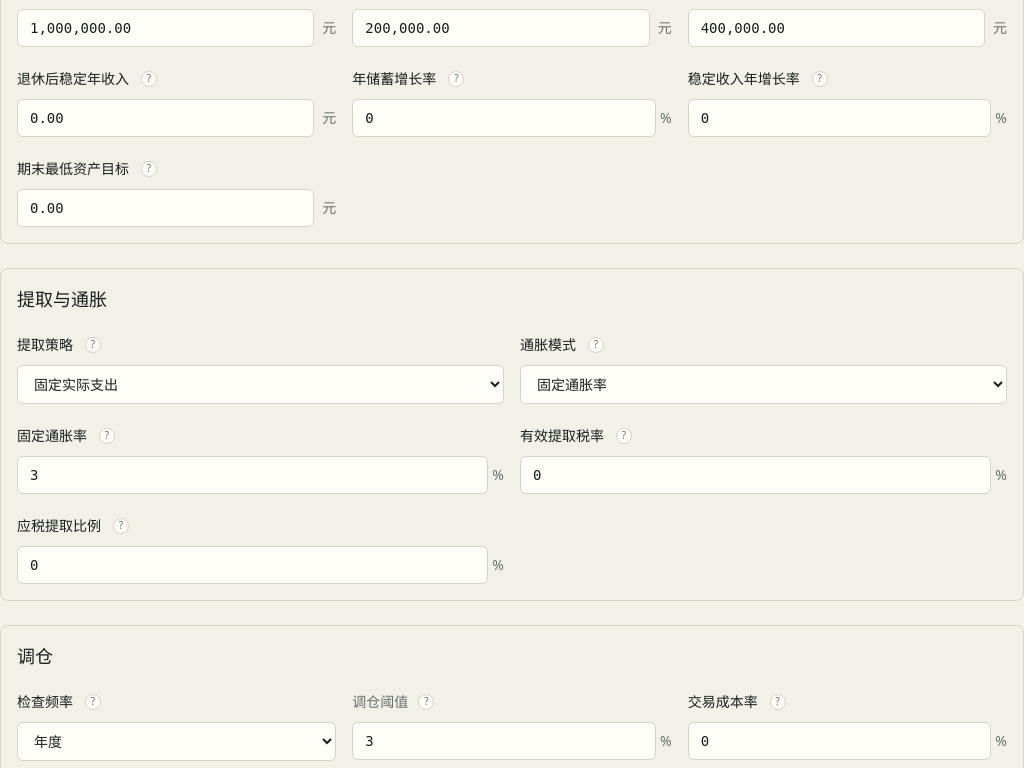
Test case: ParametersPage strategy enums › shows and validates only fields active in the selected modes
(page scrolled)
Expected: the heading "提取与通胀" is shown, [17,287,107,311]
Expected: the field with test id "percent-input" showing "固定通胀率 ? %" is shown, [17,456,488,494]
Select "随机通胀" in the dropdown labelled "通胀模式" at [764, 384], box [520,365,1007,404]
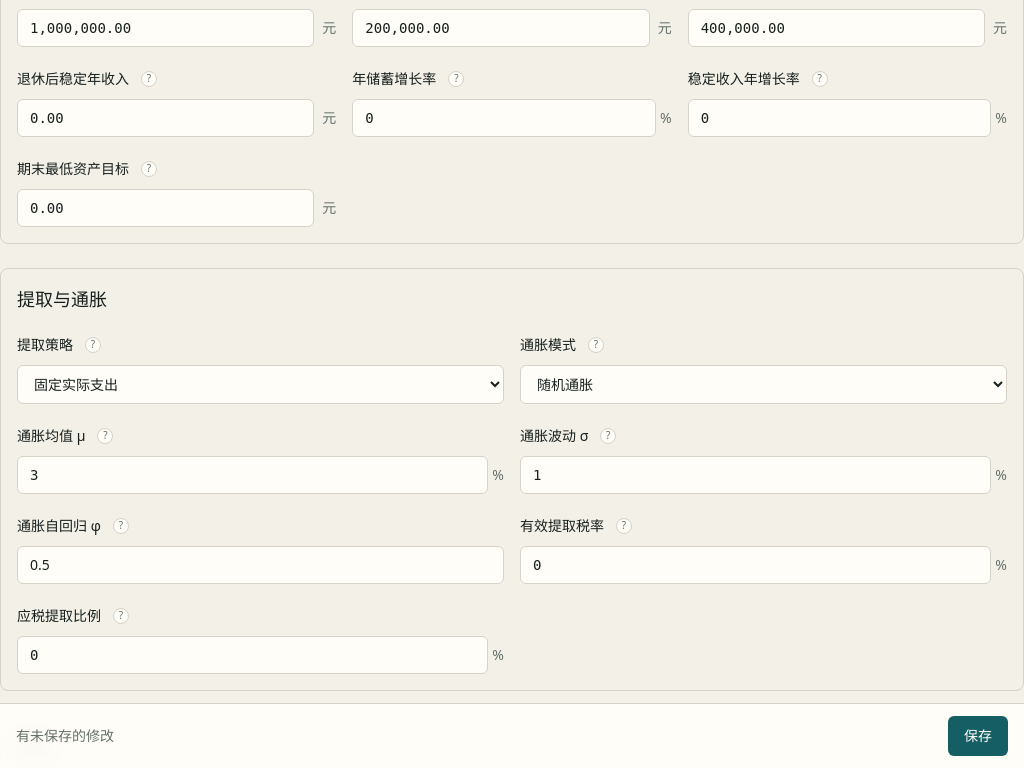
Expected: the field with test id "percent-input" showing "通胀均值 μ ? %" is shown, [17,456,488,494]
Select "组合百分比" in the dropdown labelled "提取策略 ?" at [260, 384], box [17,365,504,404]
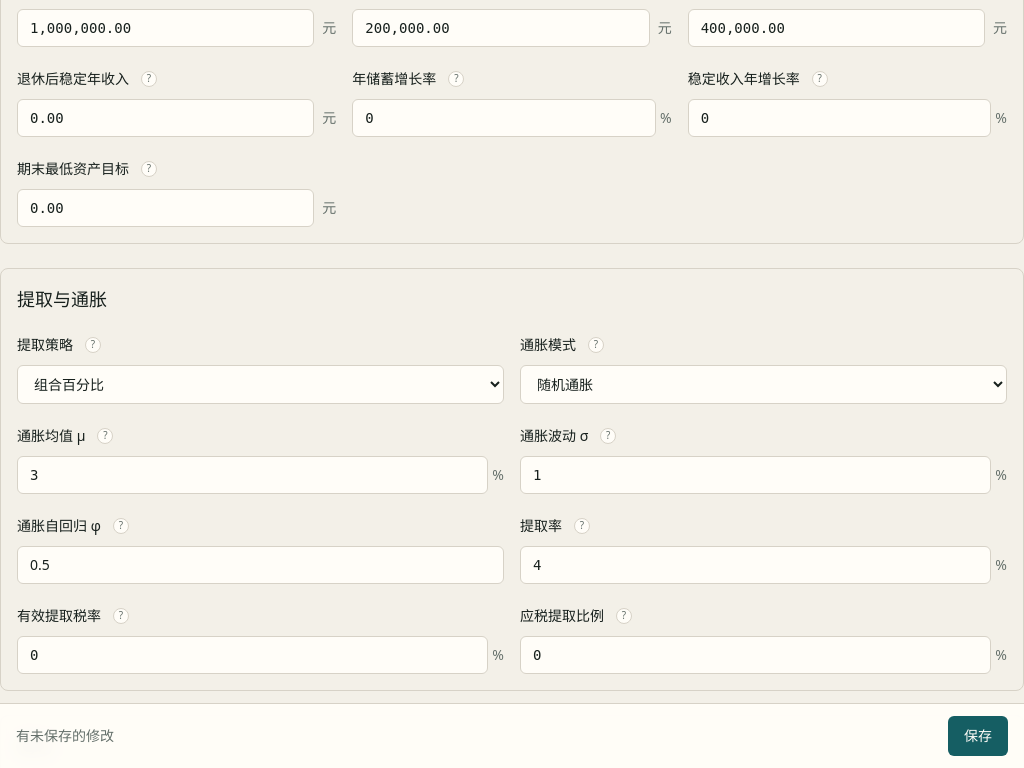
Now the field with test id "percent-input" showing "提取率 ? %" is shown, box [520,546,991,584]
Select "护栏策略" in the dropdown labelled "提取策略 ?" at [260, 384], box [17,365,504,404]
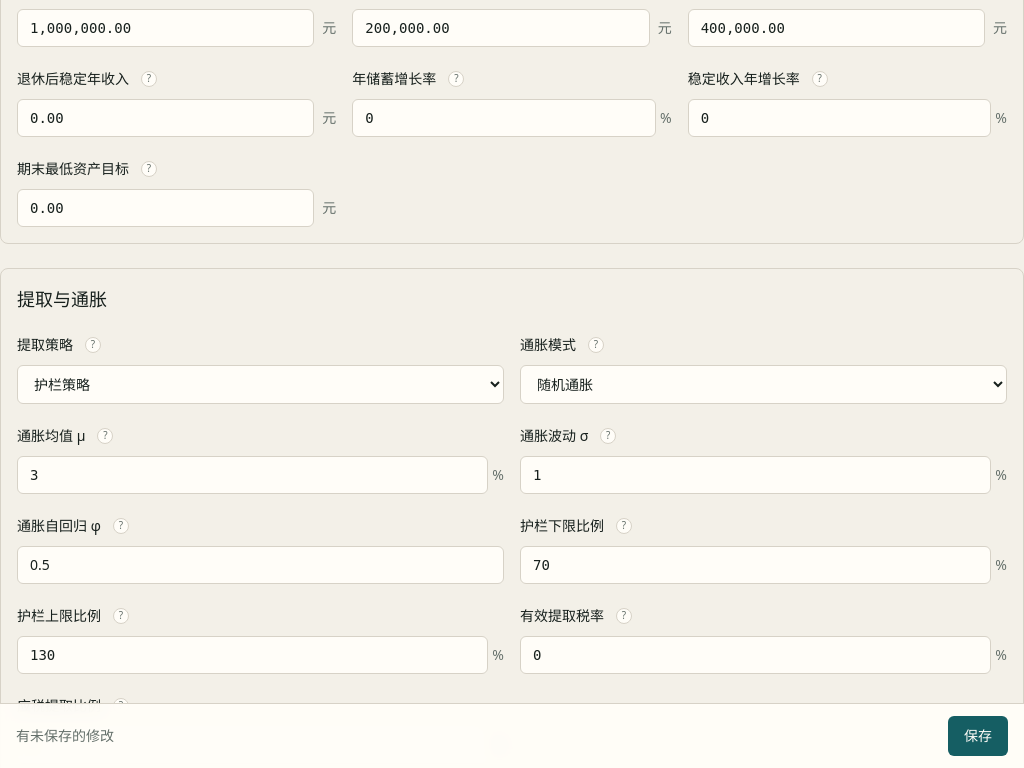
Now the field with test id "percent-input" showing "护栏下限比例 ? %" is shown, box [520,546,991,584]
Now the number of buttons named "查看「护栏提取率」说明" is 2, box [616,518,632,534]; [113,608,129,624]
